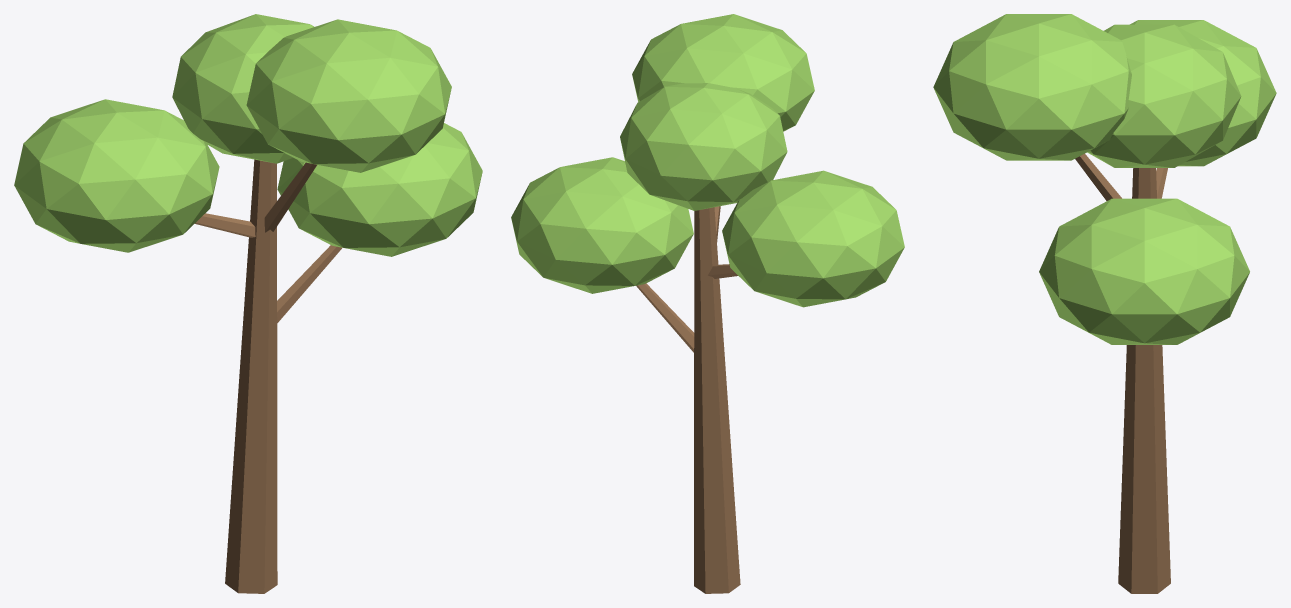
The model's file is Tree_08_Branchy.fbx.
3 renders of one model, left to right at view 1: azimuth 30°, elevation 25°; view 2: azimuth 150°, elevation 25°; view 3: azimuth 270°, elevation 25°, orthographic. The views are drawn at different scales.
Visible parts, largest first — view 1: Tree_08_Branchy; view 2: Tree_08_Branchy; view 3: Tree_08_Branchy.
Part boxes in pixels (x1=…): Tree_08_Branchy: x1=14, y1=14, x2=482, y2=593; Tree_08_Branchy: x1=511, y1=14, x2=904, y2=593; Tree_08_Branchy: x1=933, y1=14, x2=1276, y2=593.
Bounding box in the file's own units: 5.58 × 7.31 × 3.9.
